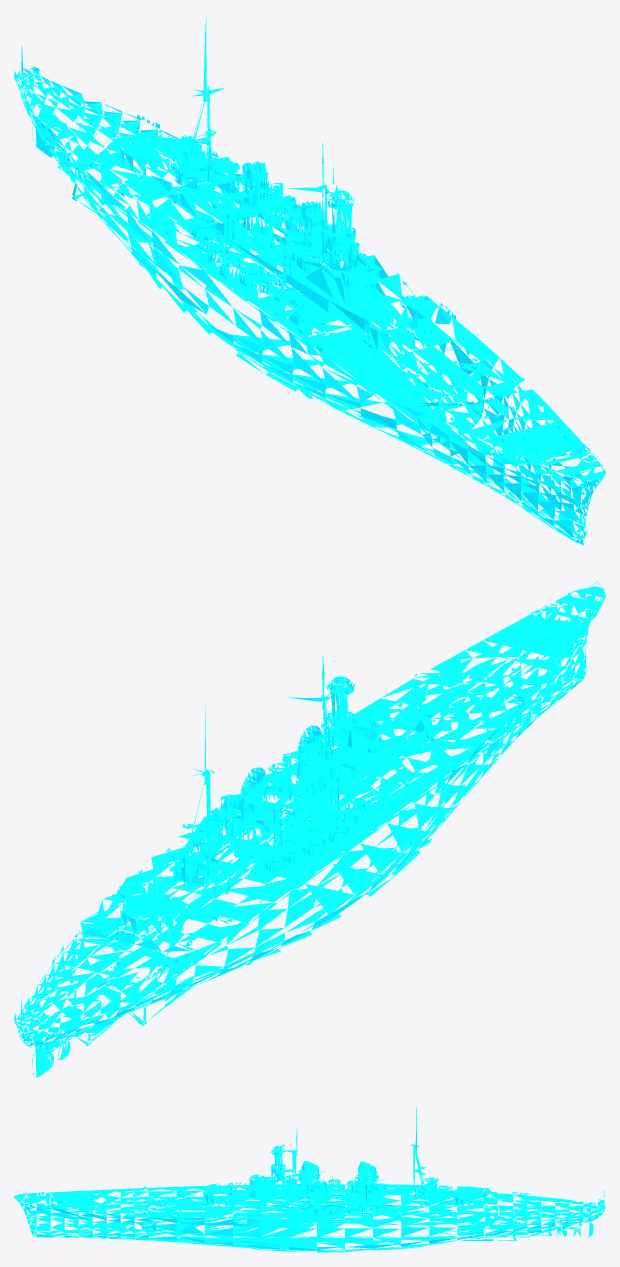
Rendered from Azur_Marco_Polo.glb.
3 views of the same model, one above another, from view 1: azimuth 30°, elevation 25°; view 2: azimuth 150°, elevation 25°; view 3: azimuth 270°, elevation 25° (orthographic). The views are drawn at different scales.
Size of the model in its own units: 2.42 by 4.12 by 16.88.
